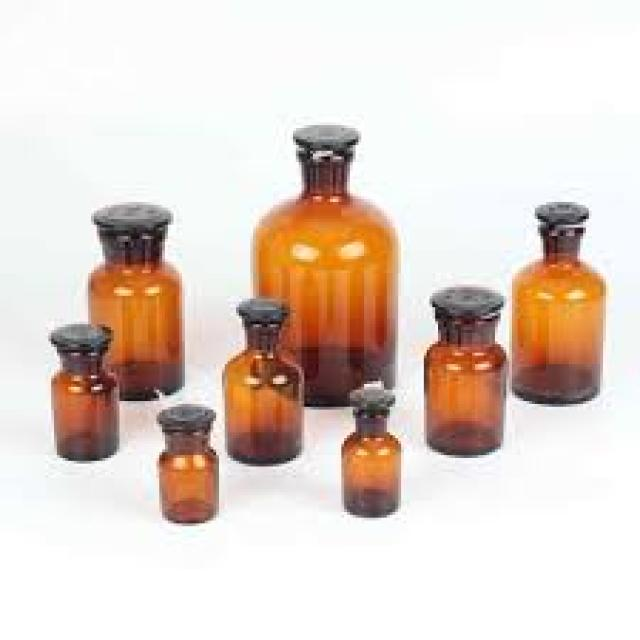glass: (251, 119, 396, 407), (506, 202, 603, 407), (85, 202, 182, 401), (424, 285, 503, 455), (219, 299, 299, 464), (48, 321, 117, 461), (342, 381, 399, 515), (154, 404, 216, 523)
